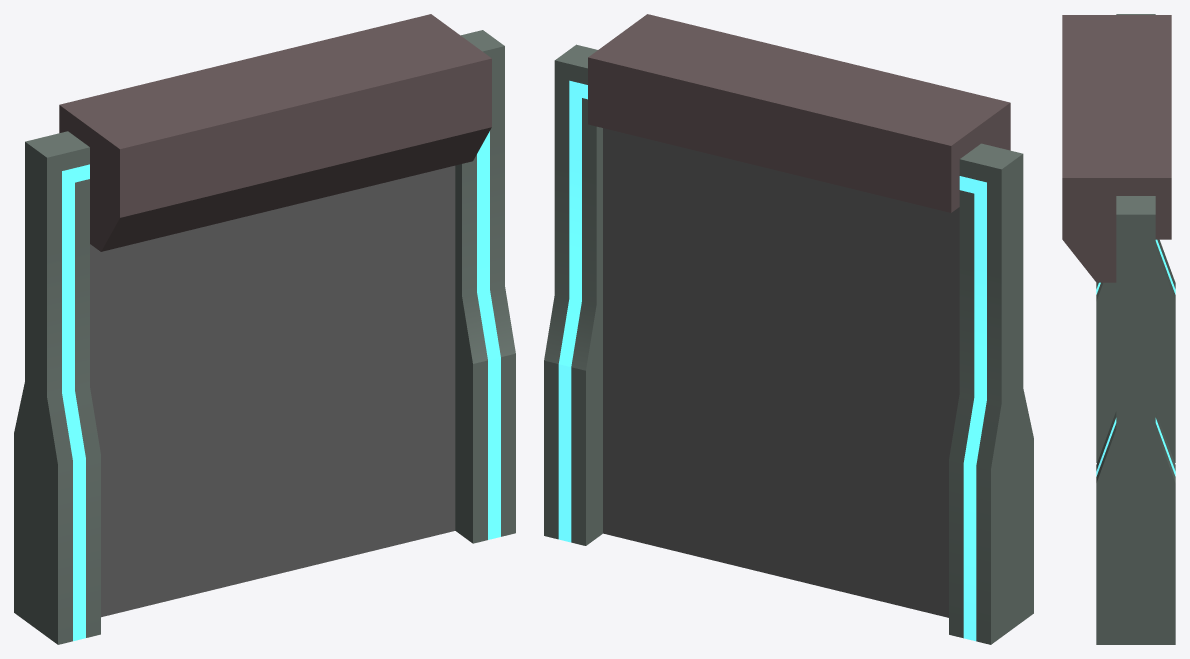
File: DoorWarehouse.fbx
The picture shows the model from 3 angles, left to right: view 1: azimuth 30°, elevation 25°; view 2: azimuth 150°, elevation 25°; view 3: azimuth 270°, elevation 25°; orthographic projection. The views are drawn at different scales.
Visible parts, largest first — view 1: DoorWarehouse; view 2: DoorWarehouse; view 3: DoorWarehouse.
Boxes of the visible parts, <box> form: DoorWarehouse: <box>14,14,515,644</box>; DoorWarehouse: <box>544,14,1033,644</box>; DoorWarehouse: <box>1062,14,1175,644</box>.
Size of the model in its own units: 600 by 625 by 143.
